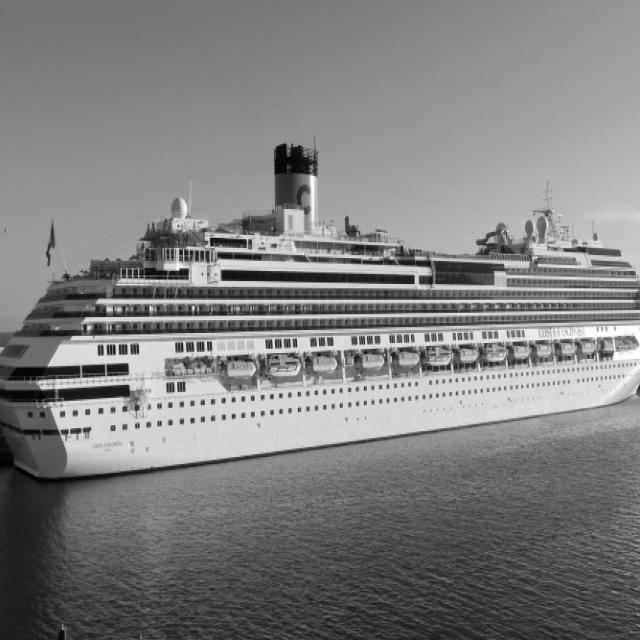cruises: (1, 137, 640, 490)
